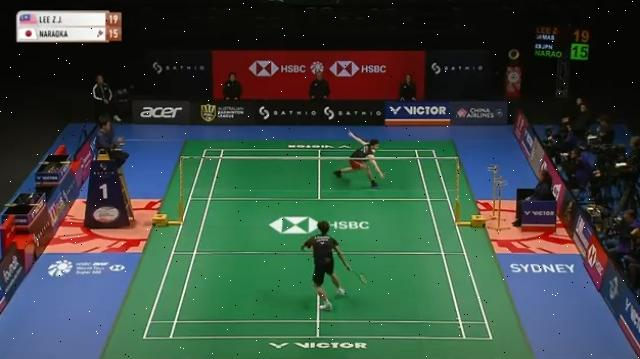Shuttlecock: (370, 146, 378, 155)
